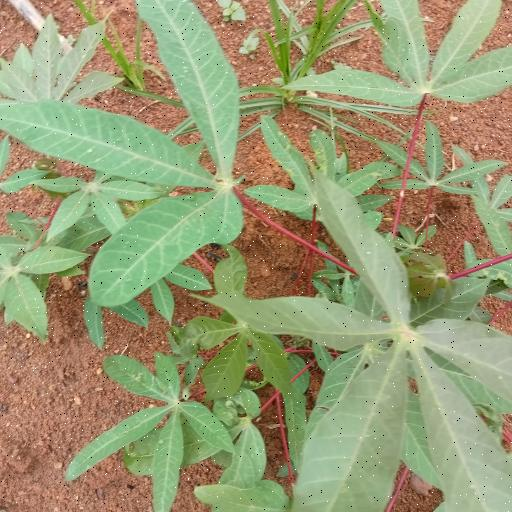Cassava_Mosaic: (258, 182, 512, 512), (22, 5, 245, 310)
